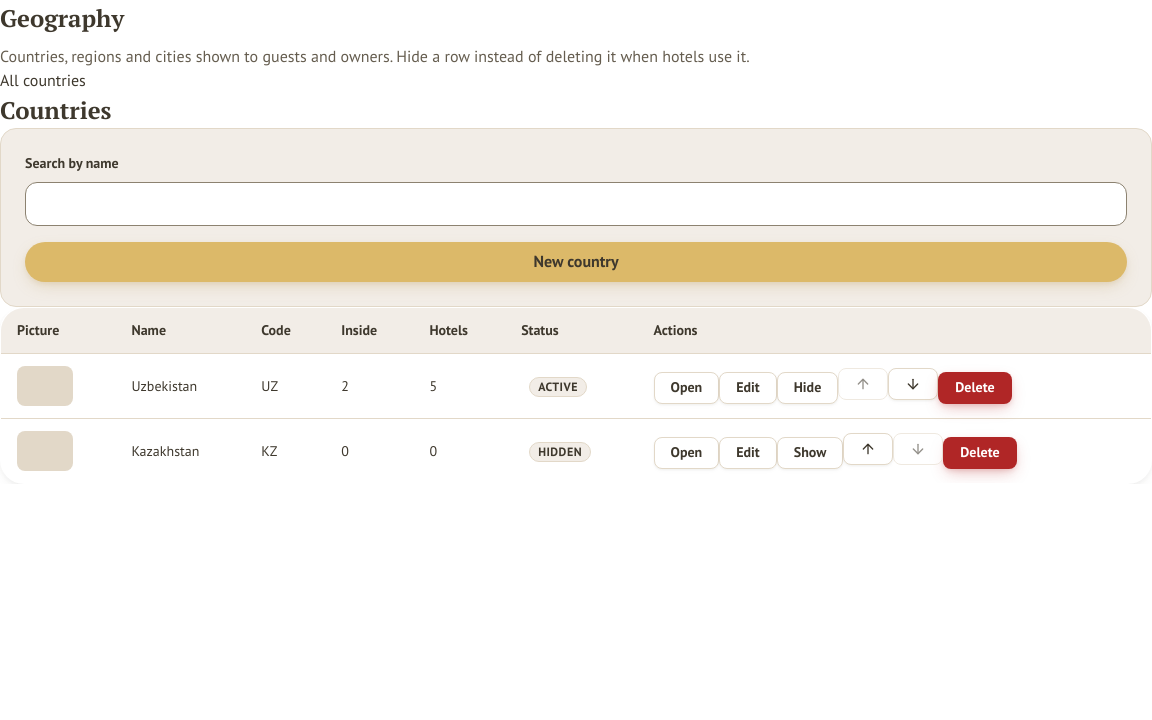
Test: AdminGeography › a row in use cannot be deleted: the screen says to hide it
Step 1. Click the button with aria-label "Delete Uzbekistan" → {"x": 975, "y": 388}, box [938, 372, 1012, 404]
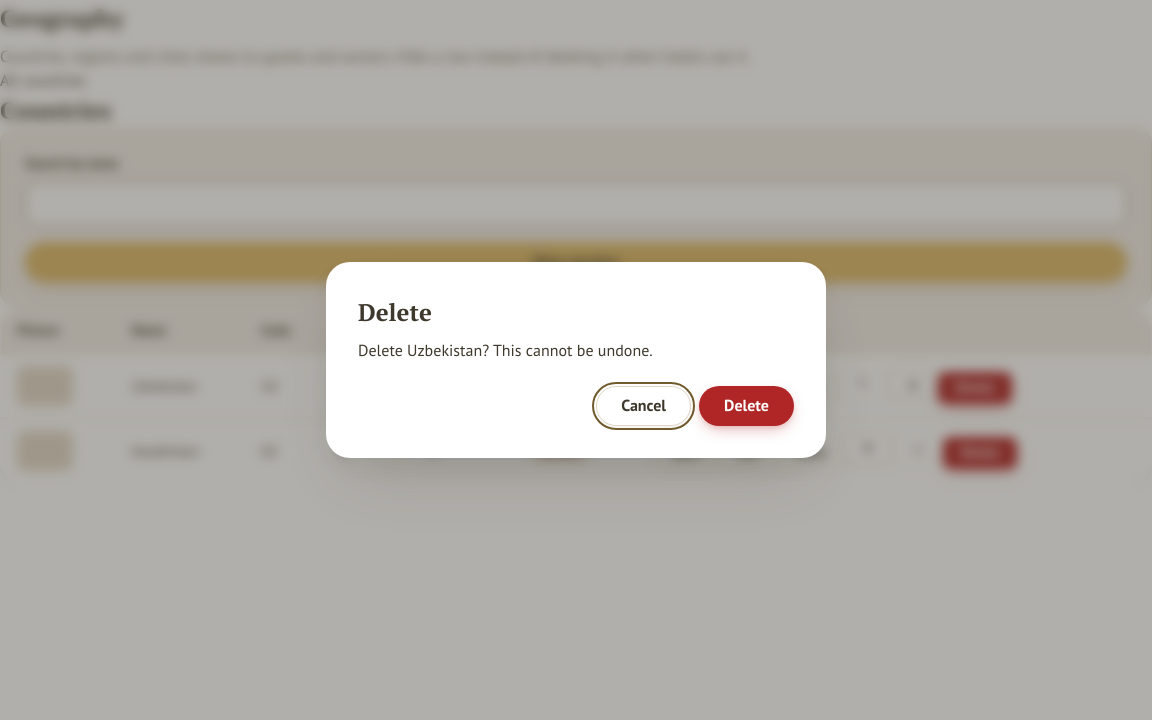
Step 2. Click the button "Delete" → {"x": 746, "y": 406}, box [699, 386, 794, 426]
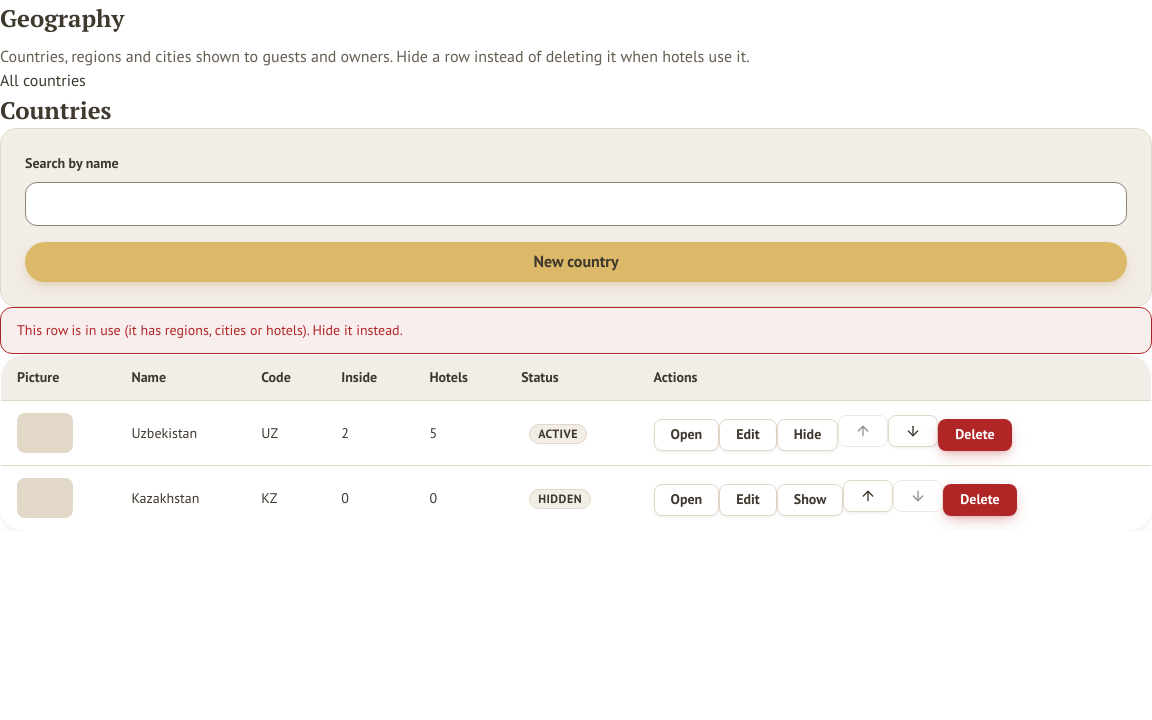
Now the message shows "Hide it instead", box [17, 321, 403, 339]
